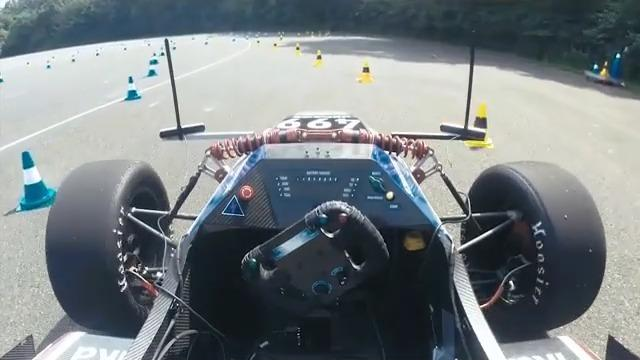blue_cone: (12, 147, 62, 208), (123, 75, 143, 101), (141, 60, 160, 81), (155, 45, 173, 66)
yellow_cone: (469, 104, 490, 150), (353, 61, 382, 84), (315, 49, 327, 64), (295, 42, 303, 57), (271, 37, 279, 51), (254, 36, 266, 45)
